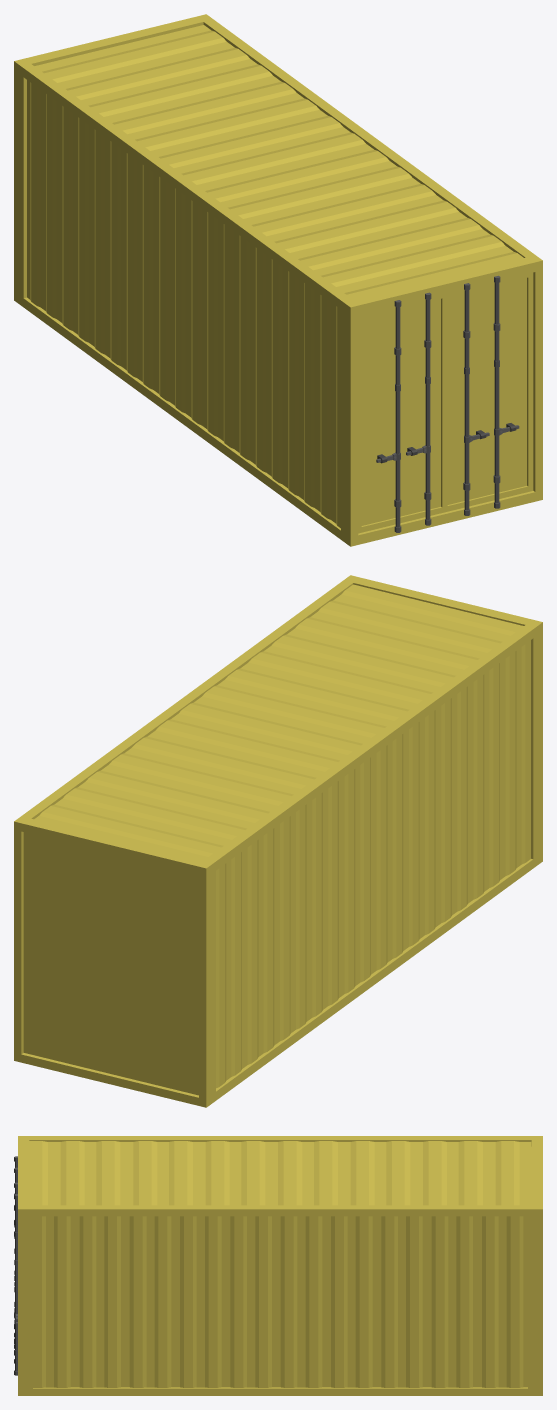
File: Container1-3.fbx
The picture shows the model from 3 angles, top to bottom: view 1: azimuth 30°, elevation 25°; view 2: azimuth 150°, elevation 25°; view 3: azimuth 270°, elevation 25°; orthographic projection. The views are drawn at different scales.
Parts seen in each view (by area): view 1: Container.002_LOD0; view 2: Container.002_LOD0; view 3: Container.002_LOD0.
Part boxes in pixels (bbox=[...]): Container.002_LOD0: bbox=[14, 14, 542, 546]; Container.002_LOD0: bbox=[14, 575, 542, 1107]; Container.002_LOD0: bbox=[14, 1136, 542, 1395].
Size of what is drawn, in the model's own units: 432 by 513 by 1318.
Materials: 1 (1 with a texture image).
